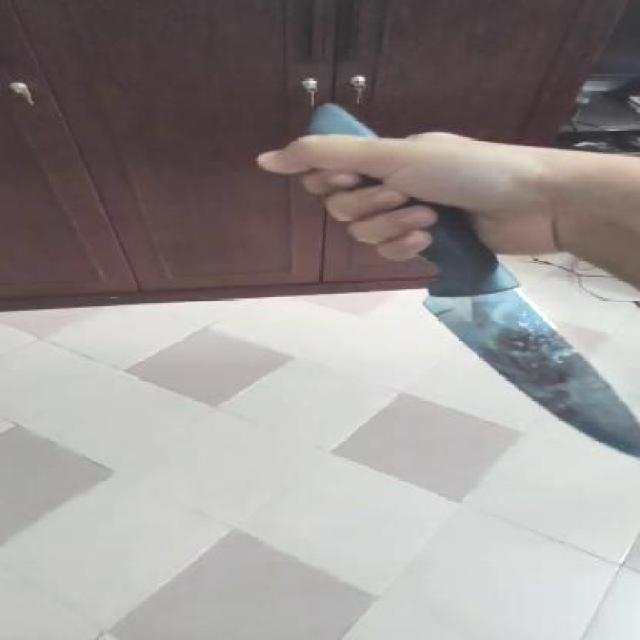knife: (414, 286, 640, 472)
